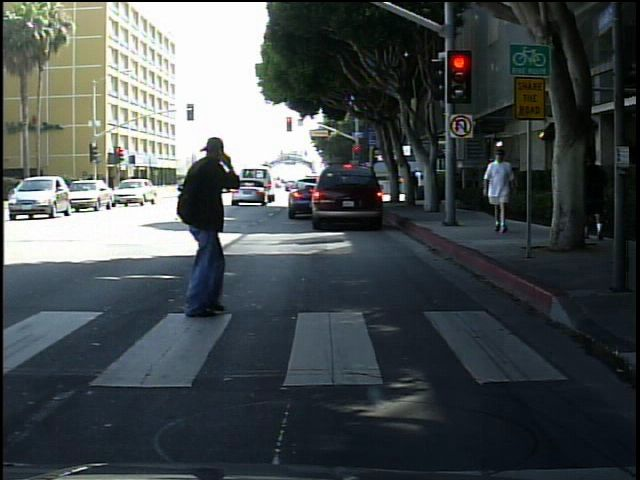person: (145, 121, 257, 335), (480, 145, 522, 240), (581, 137, 611, 246)
